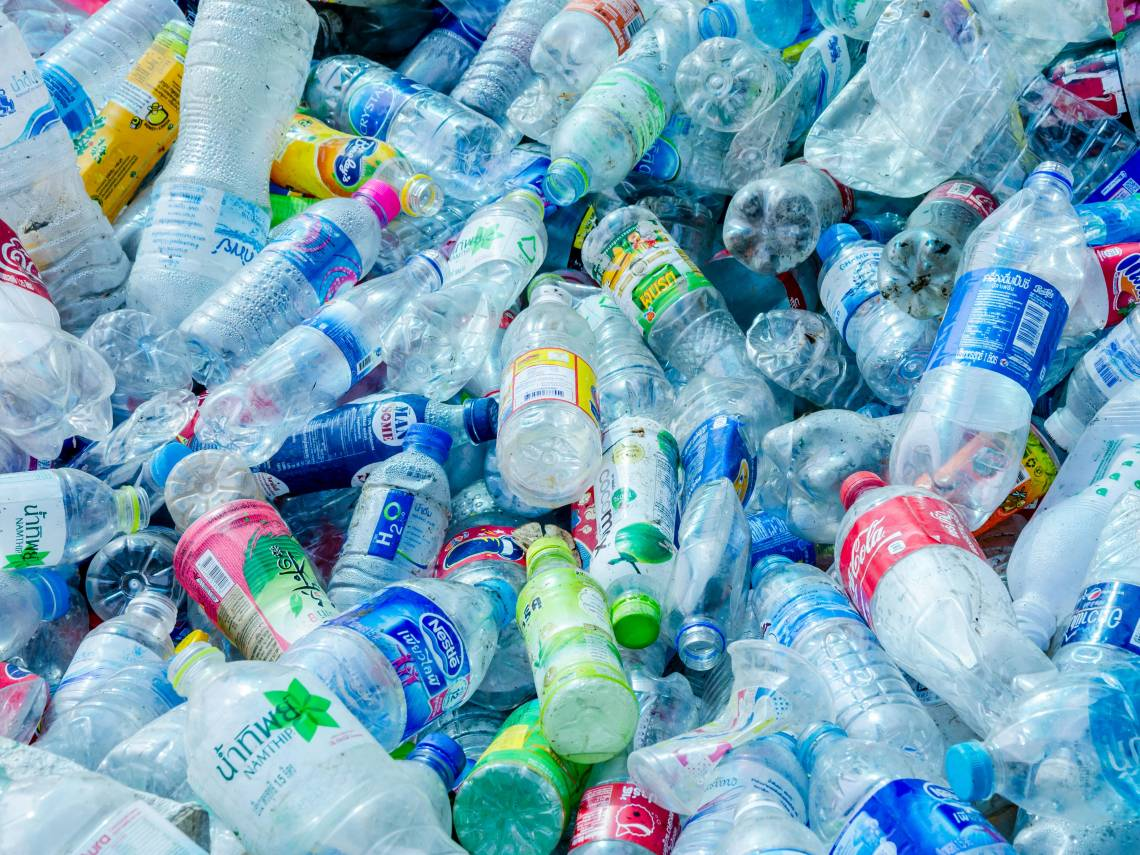plastic: (890, 167, 1074, 456), (202, 251, 447, 451), (846, 470, 1024, 714), (527, 544, 638, 752), (670, 409, 757, 663), (491, 290, 592, 491)
